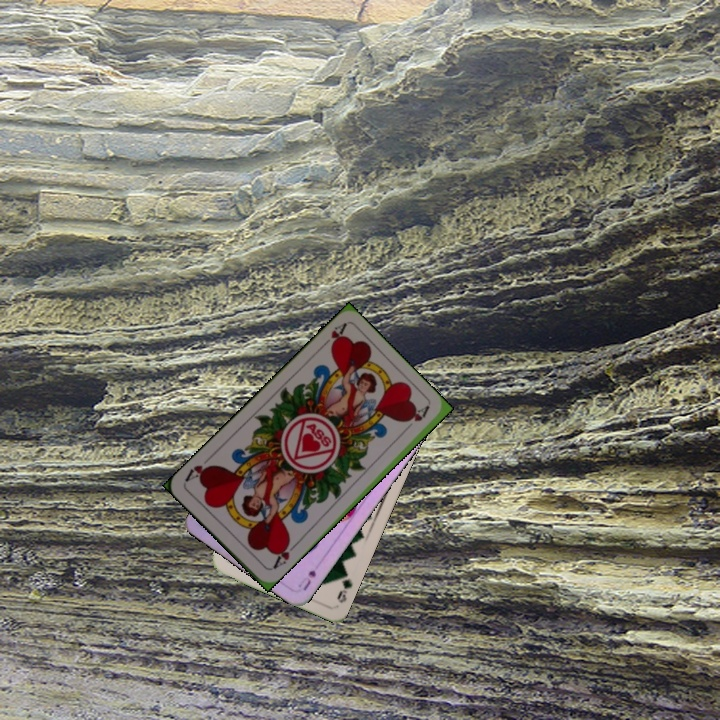G9: (333, 566, 355, 606)
HA: (267, 535, 299, 572), (315, 320, 349, 352)
SU: (294, 566, 319, 593)
